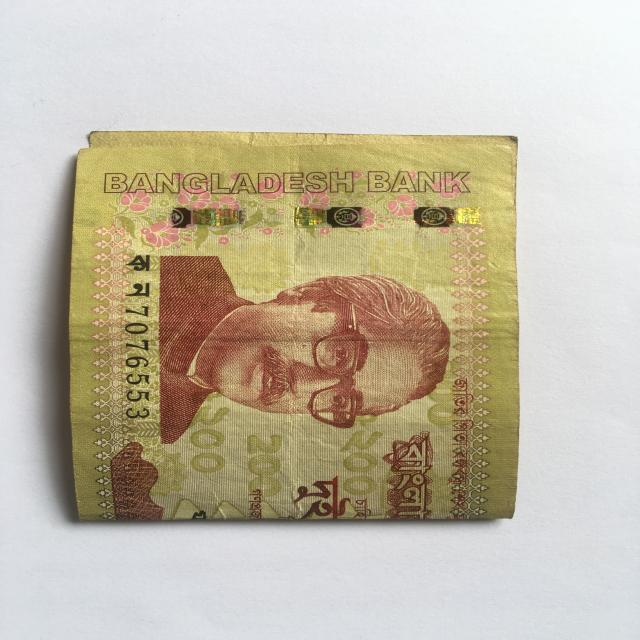Taka: (67, 124, 512, 522)
